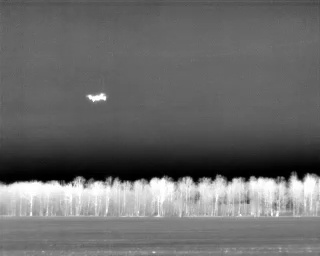DRONE: (83, 88, 111, 107)
